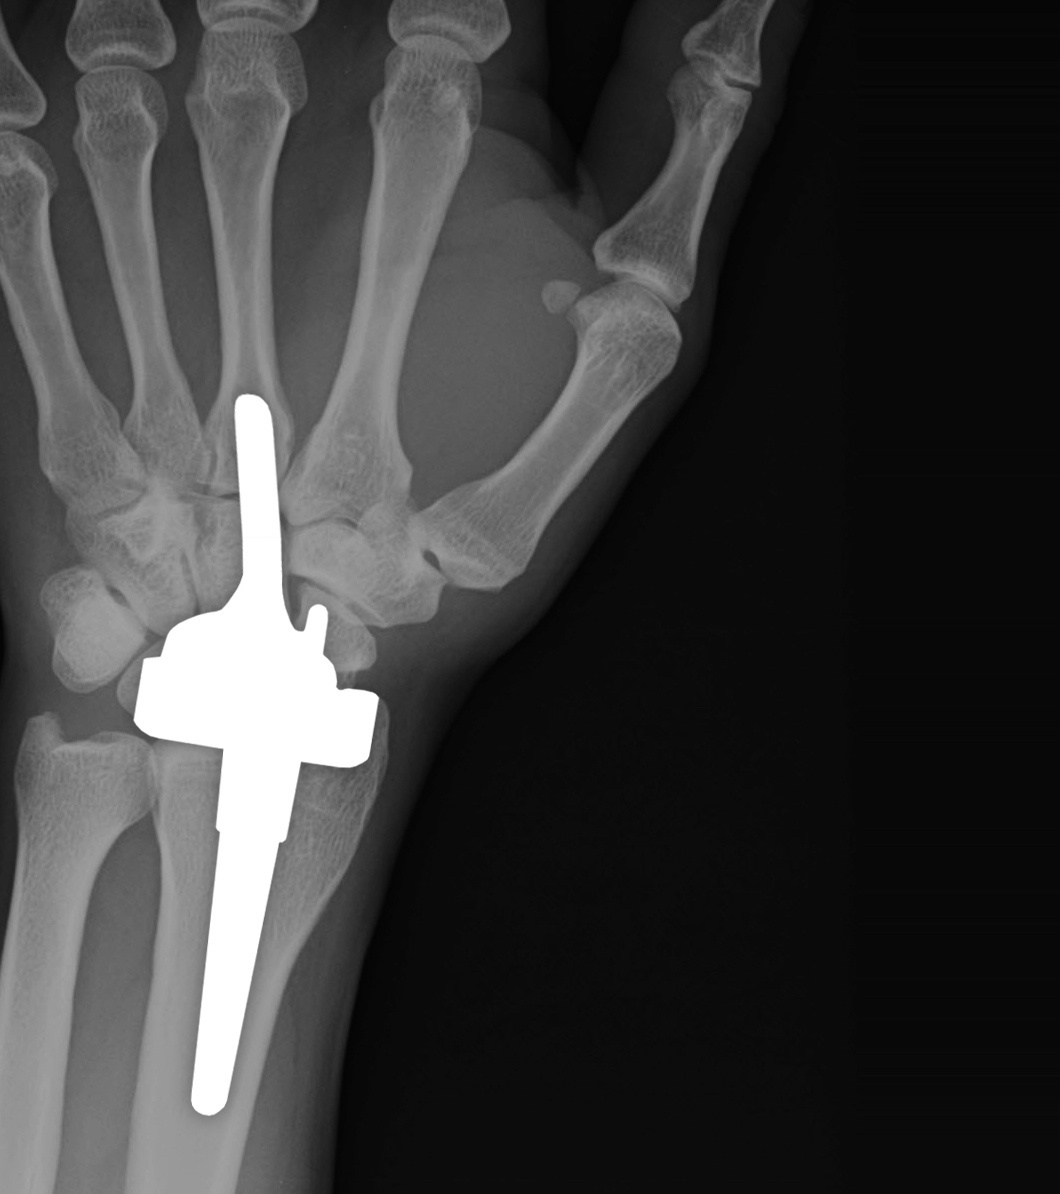Wrist-Biax-DePuuy: (109, 384, 389, 1122)
